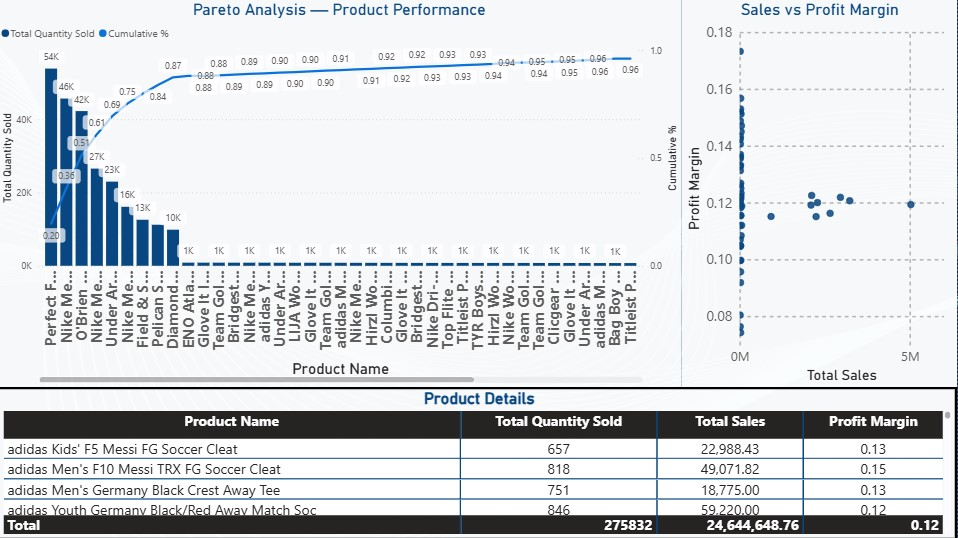

The page's visual inventory and layout, read from the dashboard file:
{"tool":"powerbi","page":{"name":"Product Performance","canvas":[1280,720],"ordinal":1},"visuals":[{"type":"lineClusteredColumnComboChart","title":"Pareto Analysis — Product Performance","fields":{"Category":["DataCoSupplyChainDataset.Product Name"],"Y":["DataCoSupplyChainDataset.Total Quantity Sold"],"Y2":["DataCoSupplyChainDataset.Cumulative %"]},"box":[0,0,912.9,515.7],"z":0},{"type":"scatterChart","title":"Sales vs Profit Margin","fields":{"X":["DataCoSupplyChainDataset.Total Sales"],"Y":["DataCoSupplyChainDataset.Profit Margin"],"Category":["DataCoSupplyChainDataset.Product Name"]},"box":[913,0,367.2,515.5],"z":2000},{"type":"tableEx","title":"Product Details","fields":{"Values":["DataCoSupplyChainDataset.Product Name","DataCoSupplyChainDataset.Total Quantity Sold","DataCoSupplyChainDataset.Total Sales","DataCoSupplyChainDataset.Profit Margin"]},"box":[0,515.5,1280.2,204.5],"z":3000}]}

Visuals, with their boxes in screenshot pixels (x1, y1, x2, y2), scaled from the page's 1280x720 canvas onto the 958x538 screenshot:
"Pareto Analysis — Product Performance" lineClusteredColumnComboChart: [0, 0, 683, 385]
"Sales vs Profit Margin" scatterChart: [683, 0, 957, 385]
"Product Details" tableEx: [0, 385, 957, 537]
